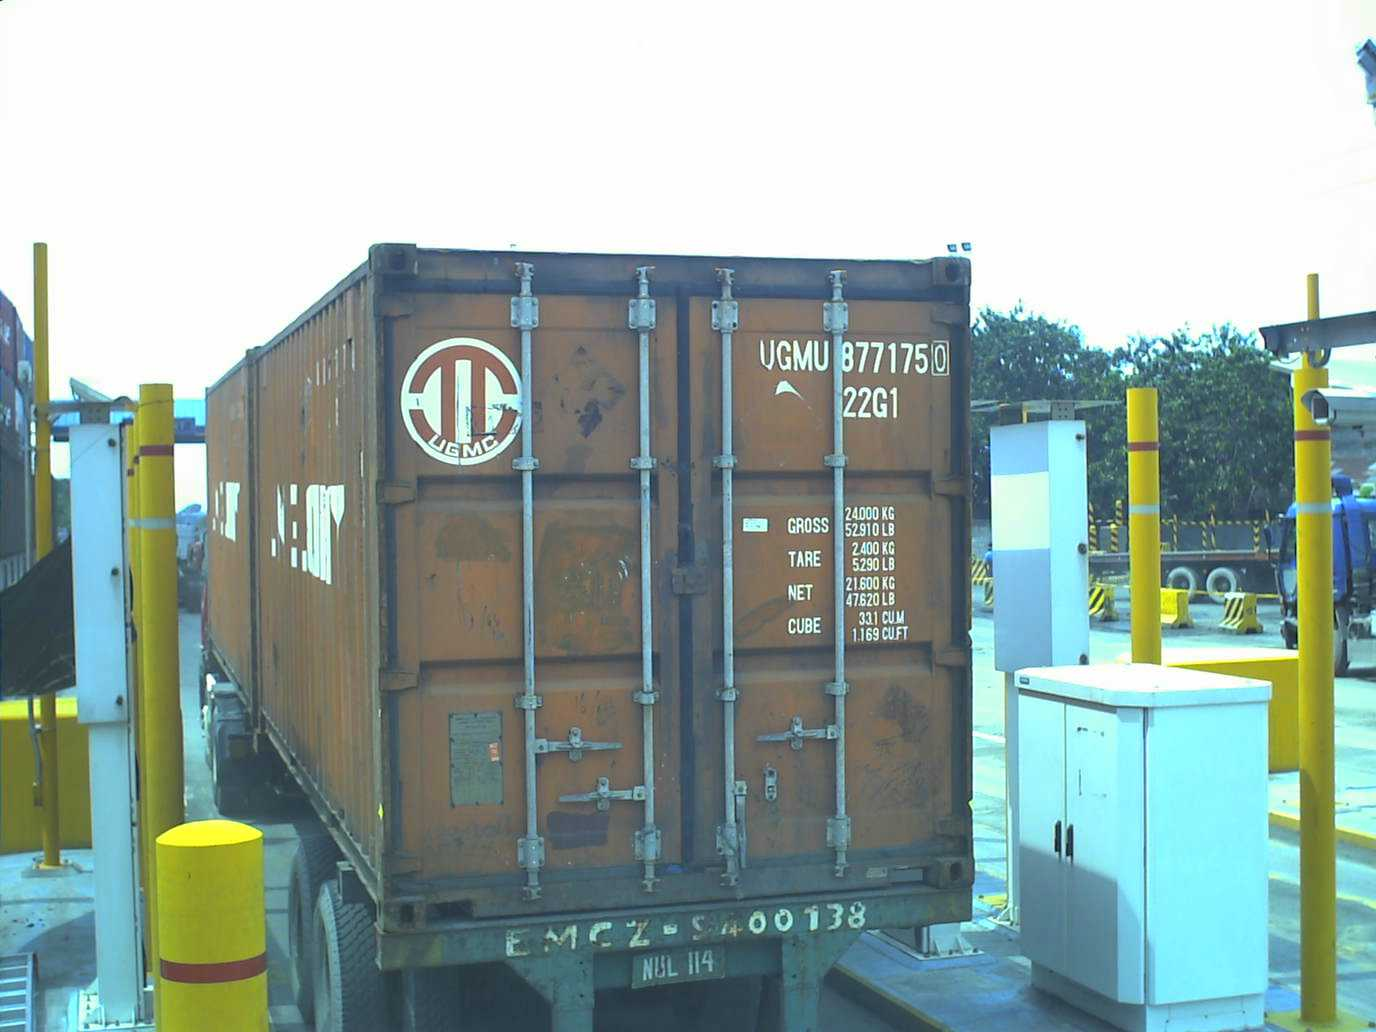container_door: (365, 241, 975, 924)
